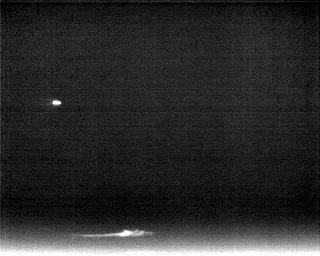AIRPLANE: (50, 97, 63, 108)
